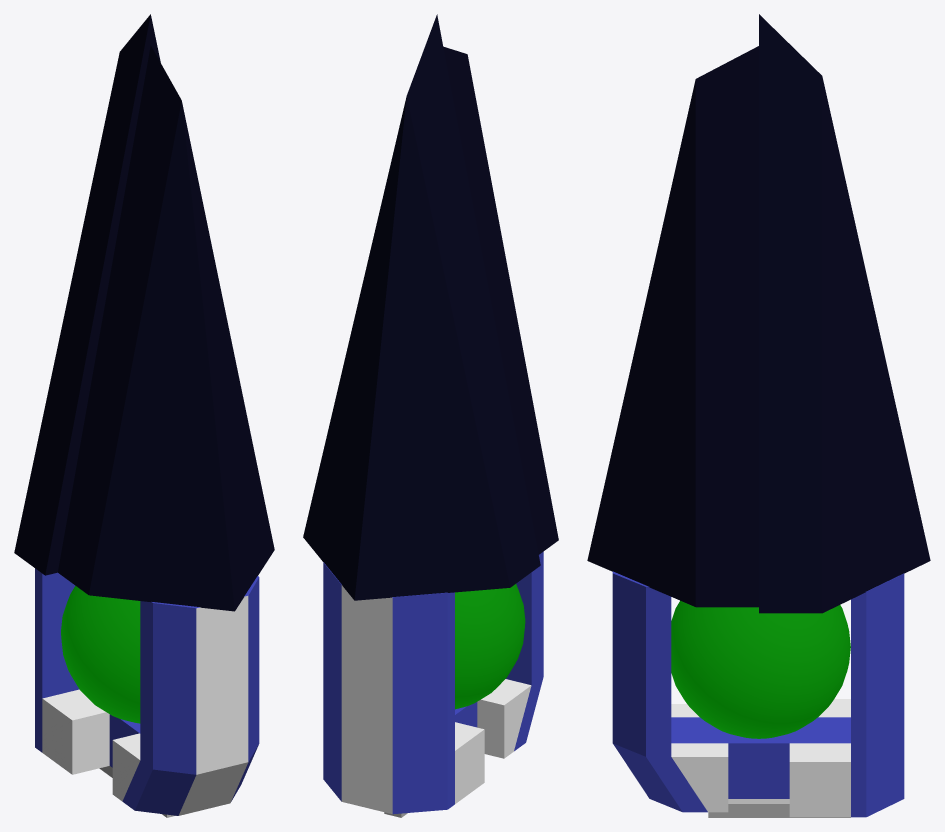
The model's file is 激光穿透槍.fbx.
3 renders of one model, left to right at view 1: azimuth 30°, elevation 25°; view 2: azimuth 150°, elevation 25°; view 3: azimuth 270°, elevation 25°, orthographic. The views are drawn at different scales.
Visible parts, largest first — view 1: 激光槍口2, 激光槍槍身, 激光槍口1, 激光核心; view 2: 激光槍口1, 激光槍槍身, 激光槍口2, 激光核心; view 3: 激光槍口1, 激光槍口2, 激光槍槍身, 激光核心.
Part boxes in pixels (left/top/right/bottom): 激光槍口2: left=58, top=45, right=274, bottom=611; 激光槍槍身: left=35, top=568, right=259, bottom=817; 激光槍口1: left=14, top=14, right=160, bottom=575; 激光核心: left=61, top=586, right=140, bottom=723; 激光槍口1: left=303, top=14, right=540, bottom=600; 激光槍槍身: left=323, top=551, right=543, bottom=817; 激光槍口2: left=443, top=46, right=558, bottom=554; 激光核心: left=455, top=584, right=525, bottom=709; 激光槍口1: left=759, top=14, right=930, bottom=613; 激光槍口2: left=587, top=46, right=758, bottom=607; 激光槍槍身: left=612, top=571, right=904, bottom=817; 激光核心: left=671, top=600, right=850, bottom=738.
Size of the model in its own units: 81.15 by 288 by 112.
